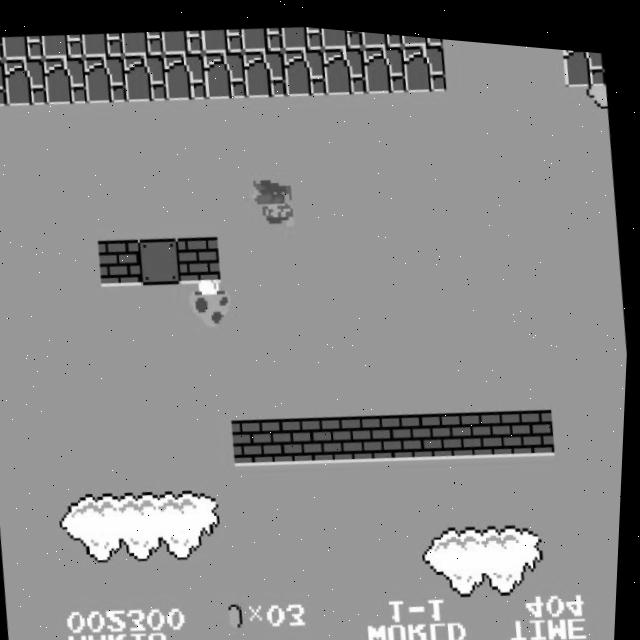1- brick_block: (97, 233, 145, 287), (177, 229, 225, 283), (233, 410, 281, 464), (313, 406, 361, 460), (273, 409, 321, 462), (432, 400, 480, 453), (512, 396, 560, 449), (353, 404, 400, 457), (393, 402, 440, 455), (473, 398, 520, 451)
11- little_mario: (247, 171, 298, 228)
12- mushroom: (186, 272, 237, 328)
17- undestructible_block: (281, 39, 329, 94), (361, 35, 409, 90), (2, 54, 50, 108), (121, 48, 169, 102), (201, 44, 249, 98), (241, 42, 289, 96), (42, 52, 89, 106), (82, 50, 129, 104), (162, 46, 209, 100), (321, 37, 368, 91), (401, 33, 448, 87), (560, 39, 607, 79), (1, 32, 45, 63), (41, 29, 85, 60), (80, 27, 124, 58), (120, 26, 164, 57), (160, 23, 204, 54), (200, 21, 244, 52), (240, 19, 284, 50), (280, 20, 324, 48), (319, 22, 363, 45), (359, 25, 403, 43), (400, 28, 443, 41), (0, 59, 9, 111)
3- empty_block: (138, 231, 185, 285)
